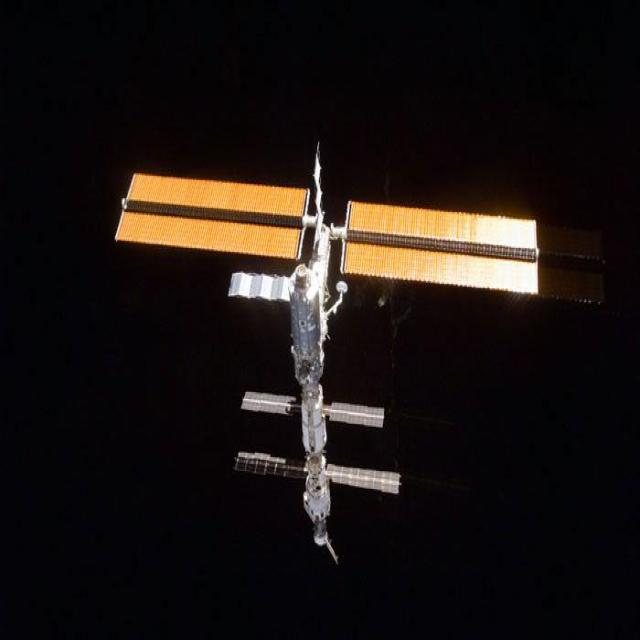satellite: (115, 148, 602, 560)
